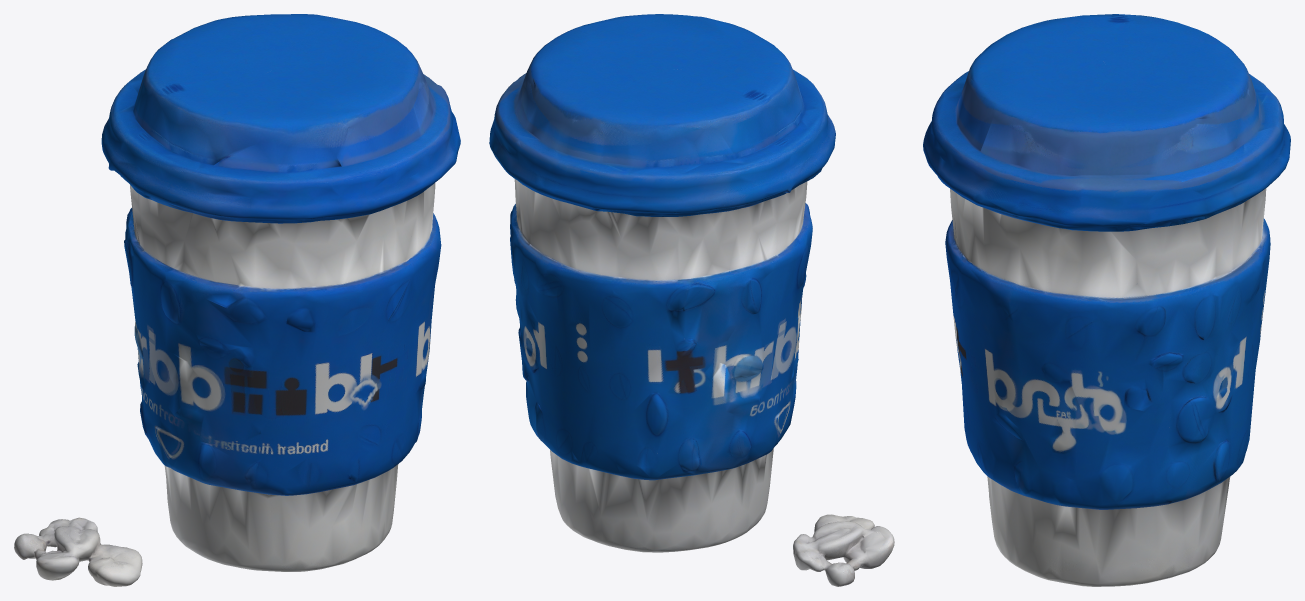
The model's file is grabbitcup.glb.
3 views of the same model, side by side, from view 1: azimuth 30°, elevation 25°; view 2: azimuth 150°, elevation 25°; view 3: azimuth 270°, elevation 25° (orthographic). The views are drawn at different scales.
Size of the model in its own units: 1.8 by 2 by 1.41.
Materials: 1 (1 with a texture image).
